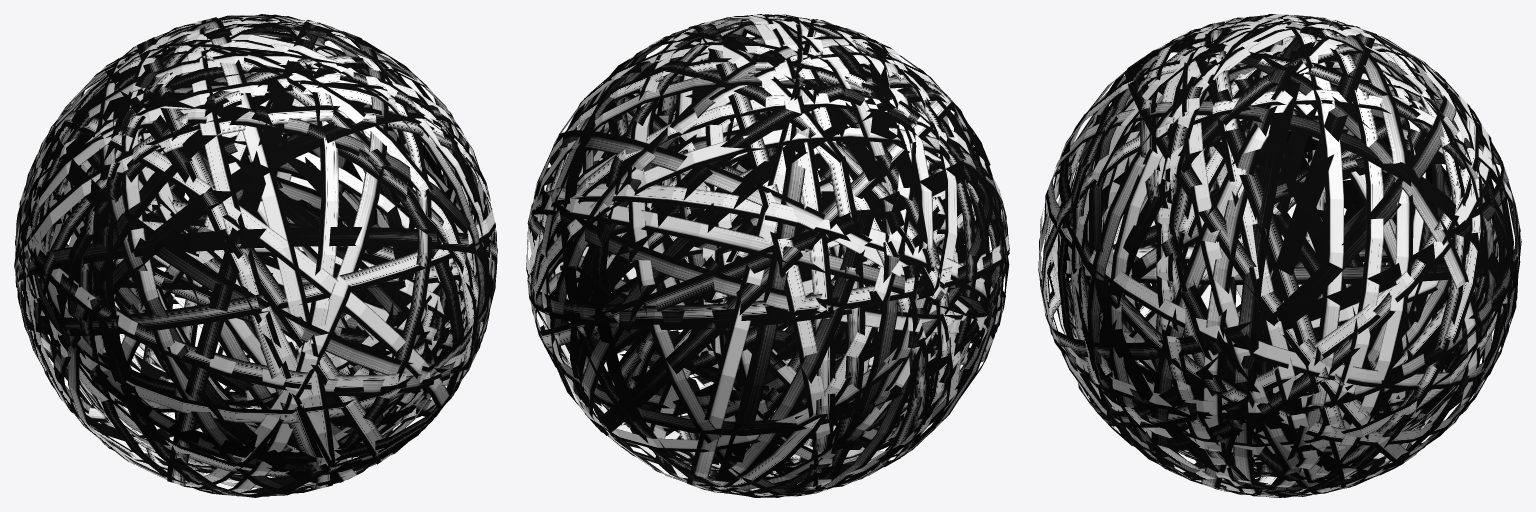
Rendered from MassiveRasengan.fbx.
The picture shows the model from 3 angles, left to right: view 1: azimuth 30°, elevation 25°; view 2: azimuth 150°, elevation 25°; view 3: azimuth 270°, elevation 25°; orthographic projection.
Visible parts, largest first — view 1: SM_WEP_Eff_MassiveRasengan_A_02.mo; view 2: SM_WEP_Eff_MassiveRasengan_A_02.mo; view 3: SM_WEP_Eff_MassiveRasengan_A_02.mo.
Part boxes in pixels (<box>): SM_WEP_Eff_MassiveRasengan_A_02.mo: <box>14,14,497,497</box>; SM_WEP_Eff_MassiveRasengan_A_02.mo: <box>526,14,1009,497</box>; SM_WEP_Eff_MassiveRasengan_A_02.mo: <box>1038,14,1521,497</box>.
Size of the model in its own units: 105 by 105 by 105.
